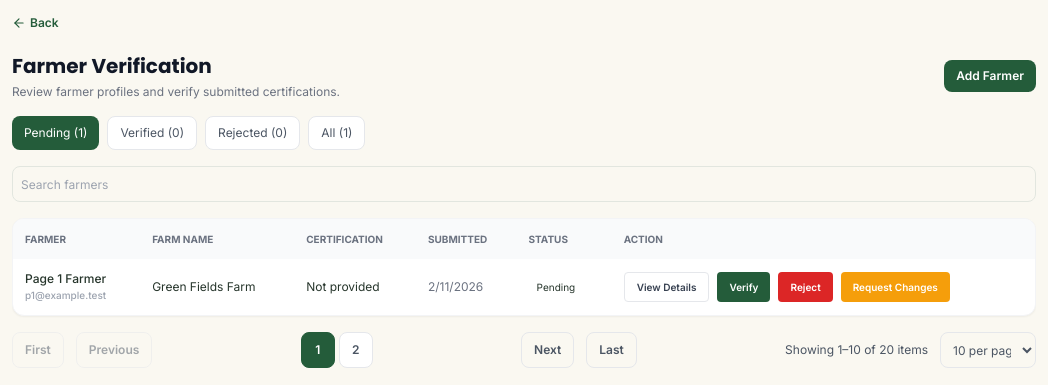
Test: Admin farmer management › Server-side pagination › fetches page 2 when clicking Next
Expected: the text "Page 1 Farmer" is shown, x1=25 y1=271 x2=106 y2=286
Step 1. Click the button "Next" → click(548, 350), box x1=521 y1=332 x2=574 y2=368
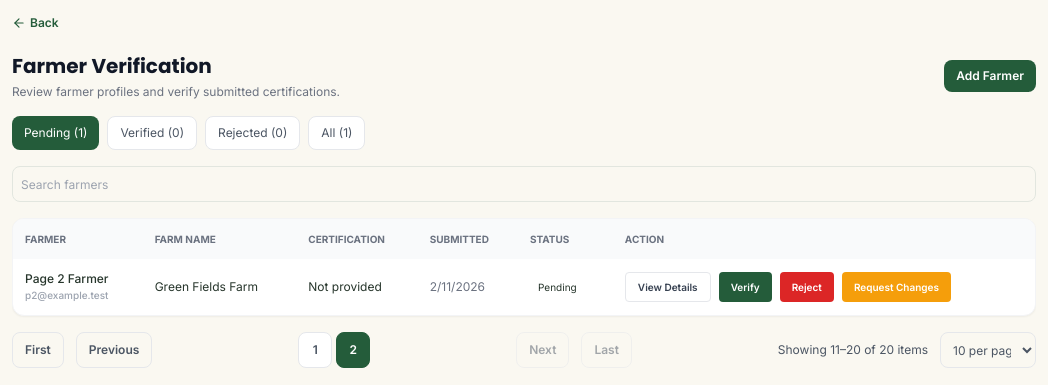
Now the text "Page 2 Farmer" is shown, box x1=25 y1=271 x2=108 y2=286
